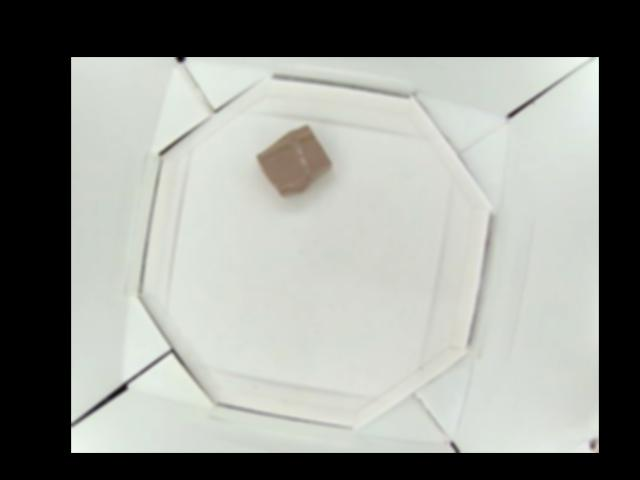China: (257, 125, 333, 194)
